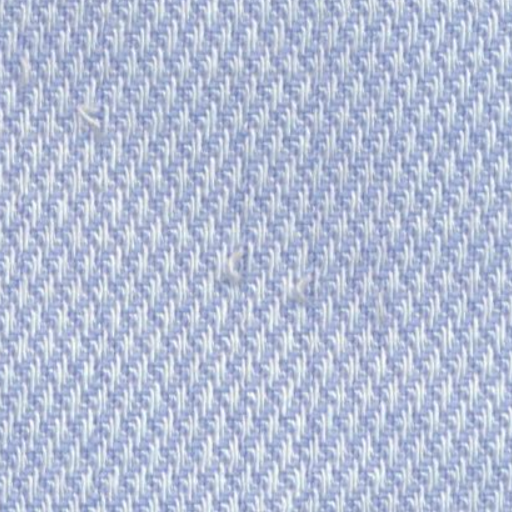DuanSha: (192, 222, 341, 323), (48, 78, 138, 154)
